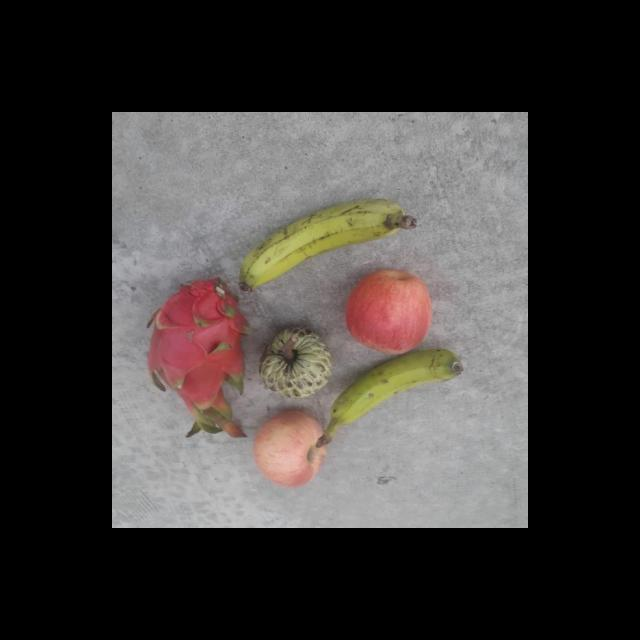Sakya fruit: (256, 326, 332, 400)
apple: (342, 266, 433, 356), (253, 408, 328, 488)
banana: (237, 198, 419, 294), (312, 348, 463, 448)
pitaya: (142, 278, 252, 438)
